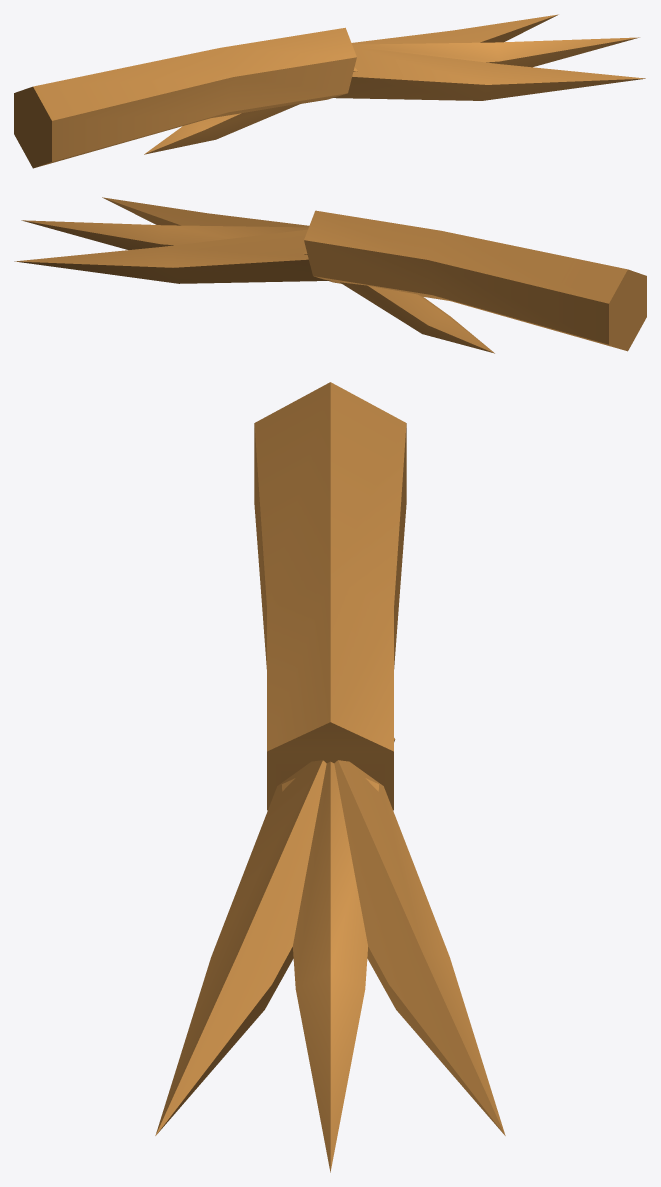
Rendered from heath_grouse_foot.glb.
The picture shows the model from 3 angles, top to bottom: view 1: azimuth 30°, elevation 25°; view 2: azimuth 150°, elevation 25°; view 3: azimuth 270°, elevation 25°; orthographic projection. The views are drawn at different scales.
Parts seen in each view (by area): view 1: heath_grouse_foot; view 2: heath_grouse_foot; view 3: heath_grouse_foot.
Part boxes in pixels (x1,y1,x2,y2): heath_grouse_foot: [14, 14, 645, 168]; heath_grouse_foot: [14, 197, 646, 353]; heath_grouse_foot: [155, 382, 505, 1172].
Bounding box in the file's own units: 0.06 × 0.01 × 0.015.
